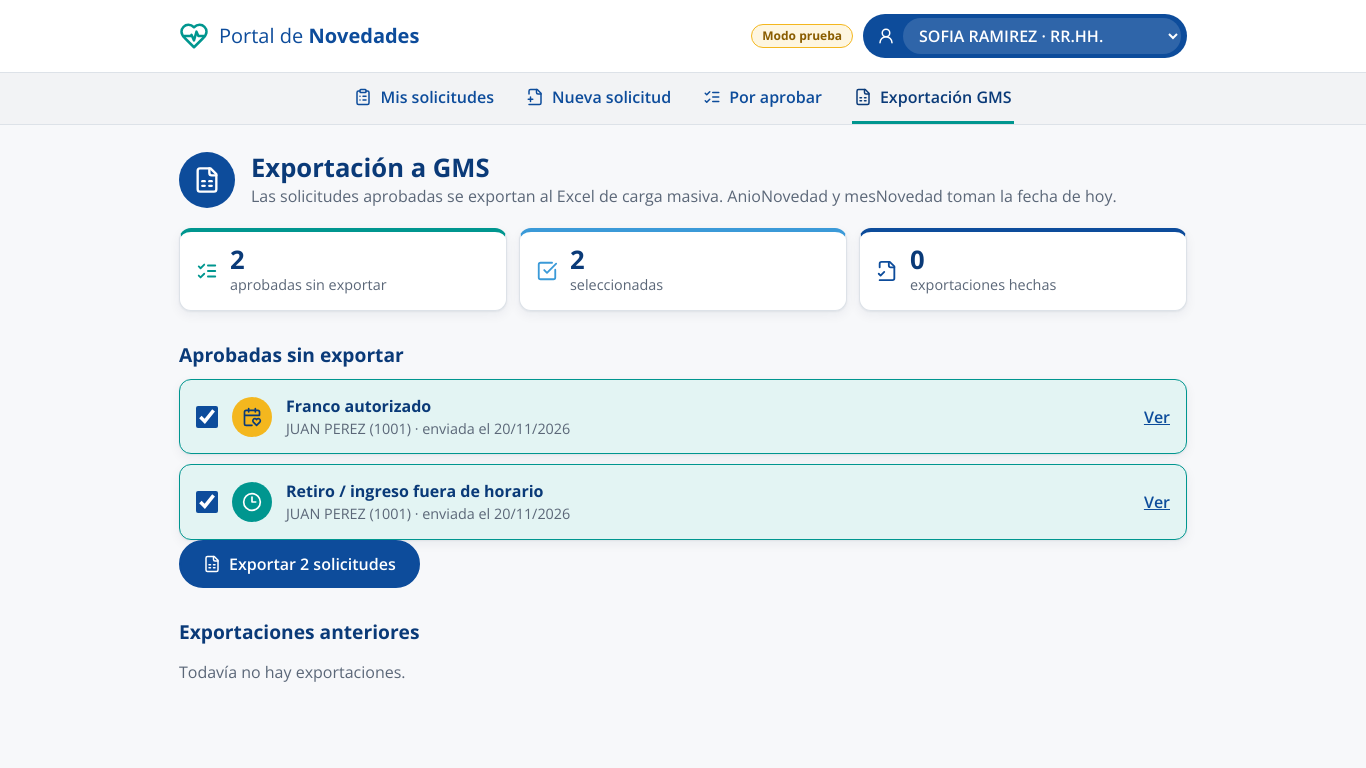
Test: Exportación a GMS › se puede destildar una solicitud antes de exportar
Click the checkbox named "Exportar solicitud 2".
click(207, 502)  # box [196,491,218,513]
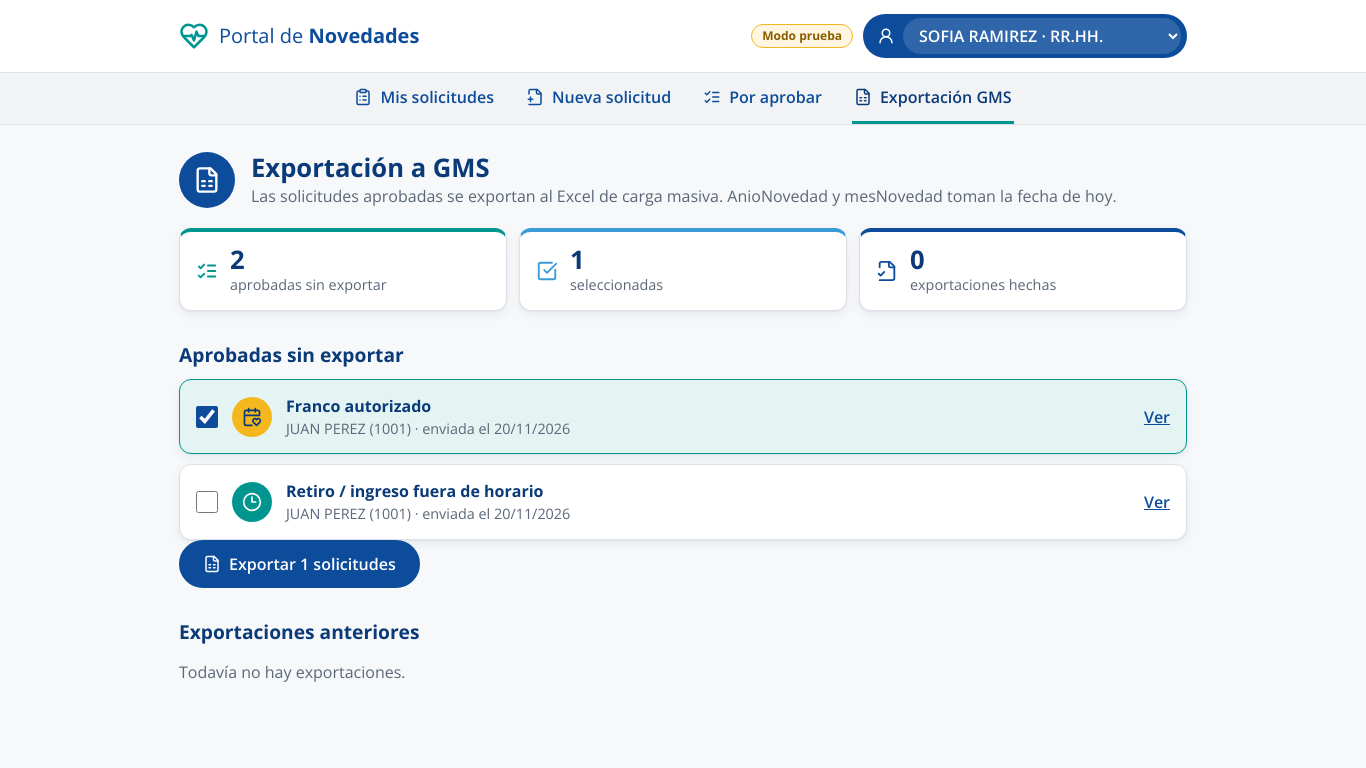
Check: the button "Exportar 1 solicitudes" is shown, box [179,540,420,588]
